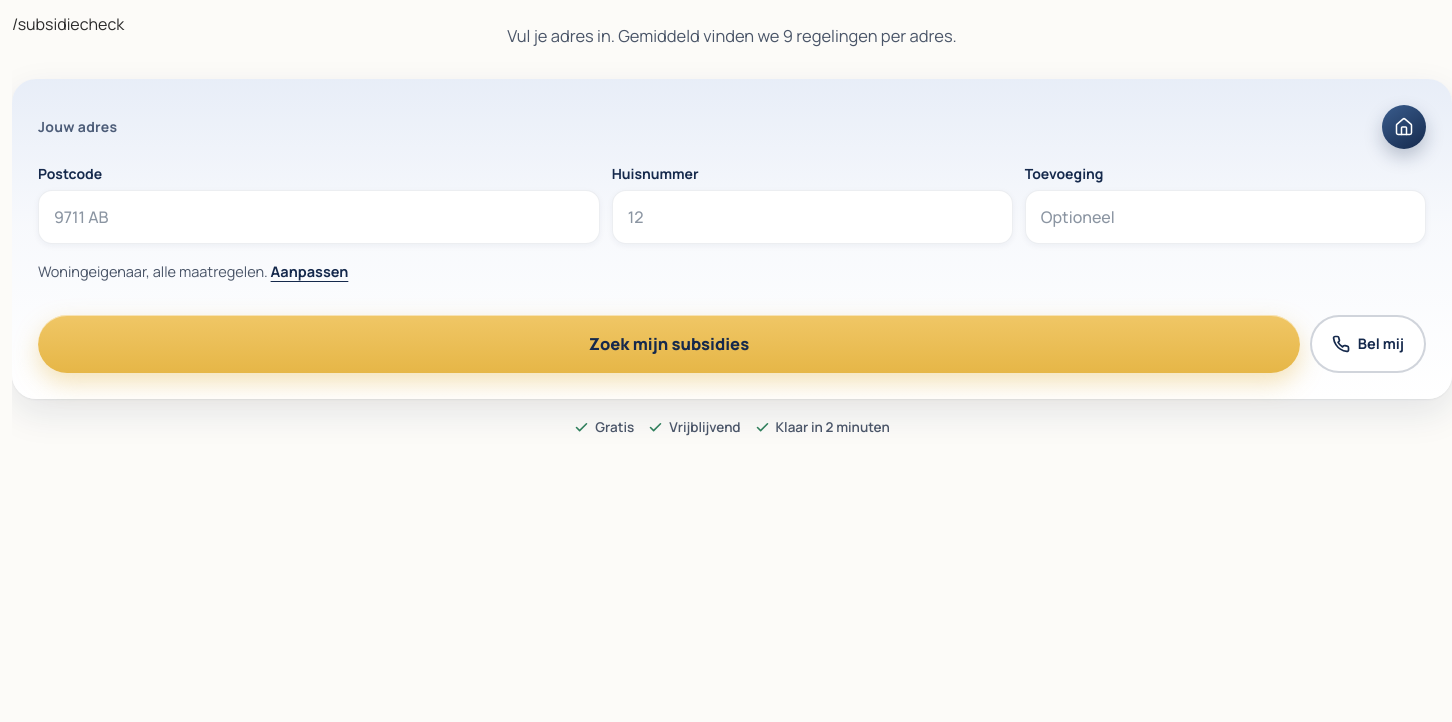
it: Bel mij op stap 1 van de check › zonder adres en herkomst gaat er een kale link naar /contact
Click the link with aria-label "Liever gebeld worden? Laat je nummer achter" at point(1368, 344), box 1310,315 -> 1426,373
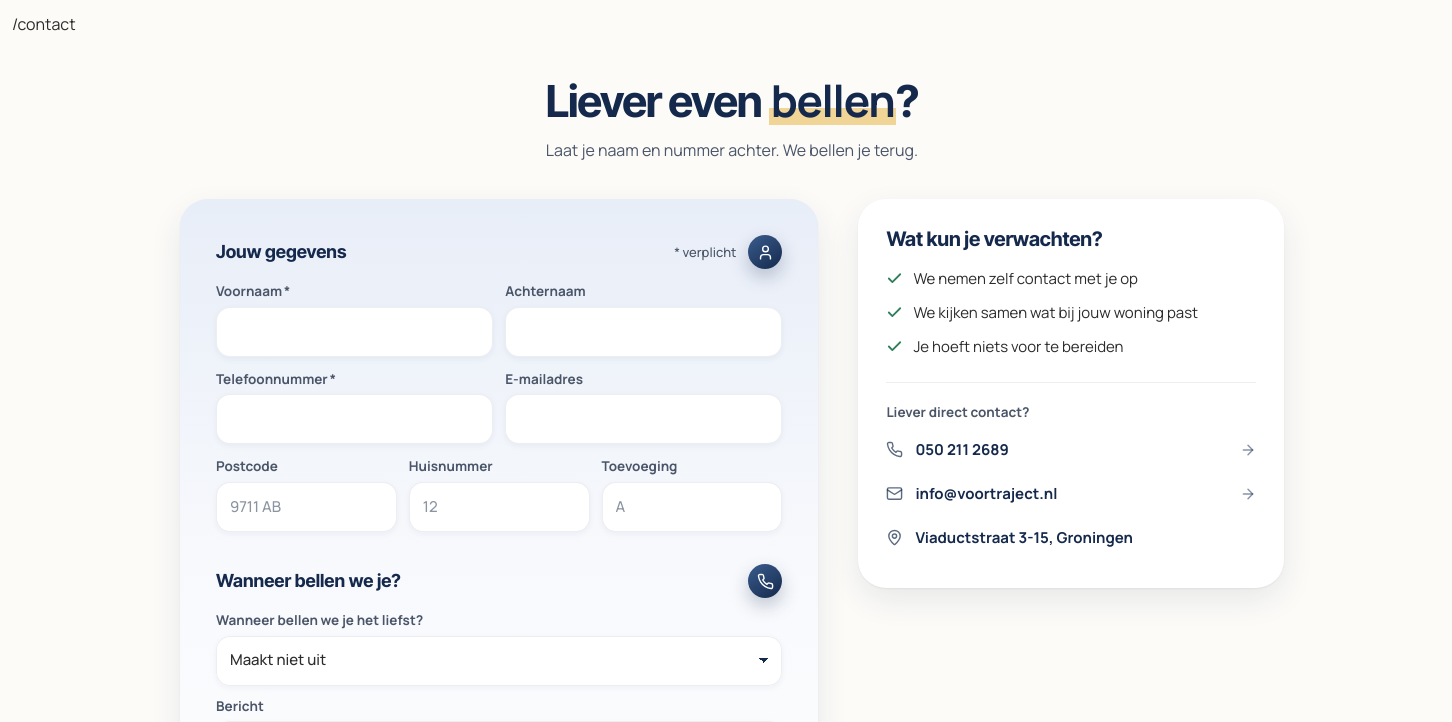
Now the text with test id "waar" reads "/contact", box 12,13 -> 76,35
Now the field labelled "Postcode" is empty, box 216,482 -> 397,532
